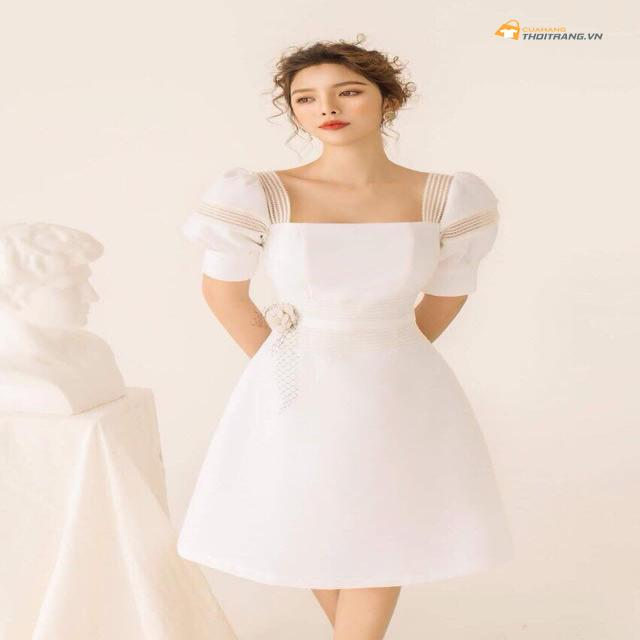clothes: (188, 165, 522, 590)
